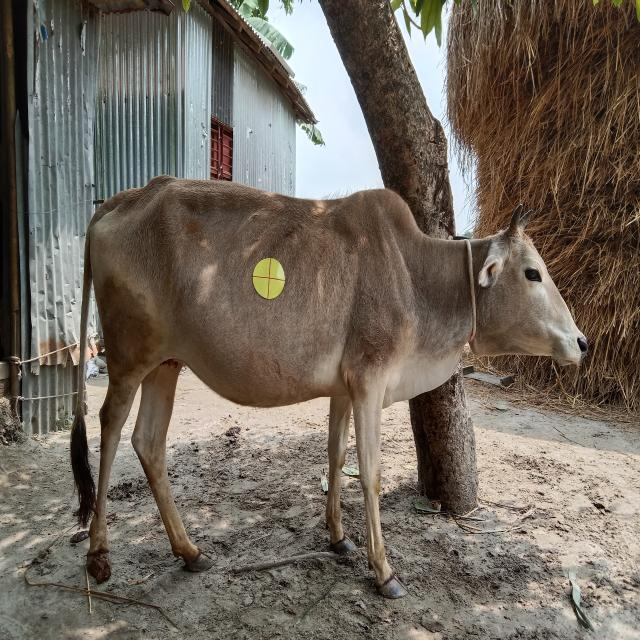badan_sapi: (94, 198, 418, 410)
sapi: (70, 160, 596, 600)
